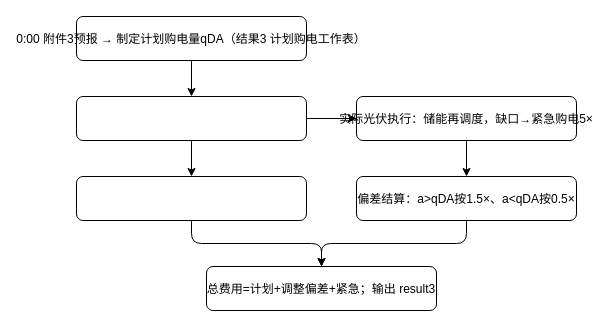
Image size: 609x327. Some labels were removed from this diagram. Here are the shapes that lost their labels. From the top down, the centre of each, then its label:
[191,118]: 6:00/12:00/18:00 新预报 → 对剩余时段重优化
[191,198]: 调整购电量a（结果3 调整购电工作表）
